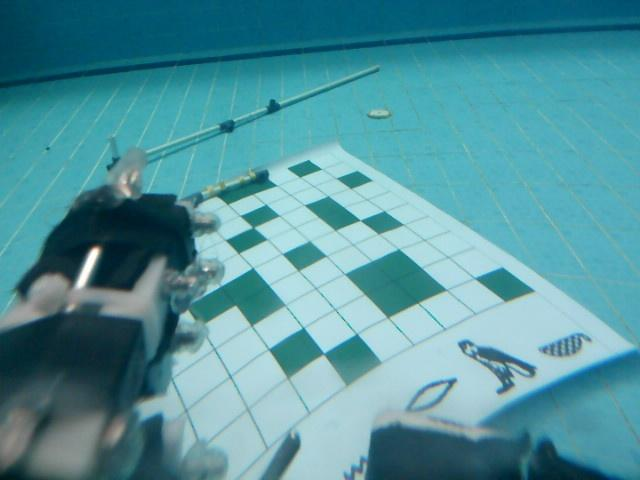Basket: (539, 332, 594, 360)
Mouth: (407, 374, 458, 416)
Owl: (457, 337, 537, 394)
Water: (340, 450, 372, 480)
